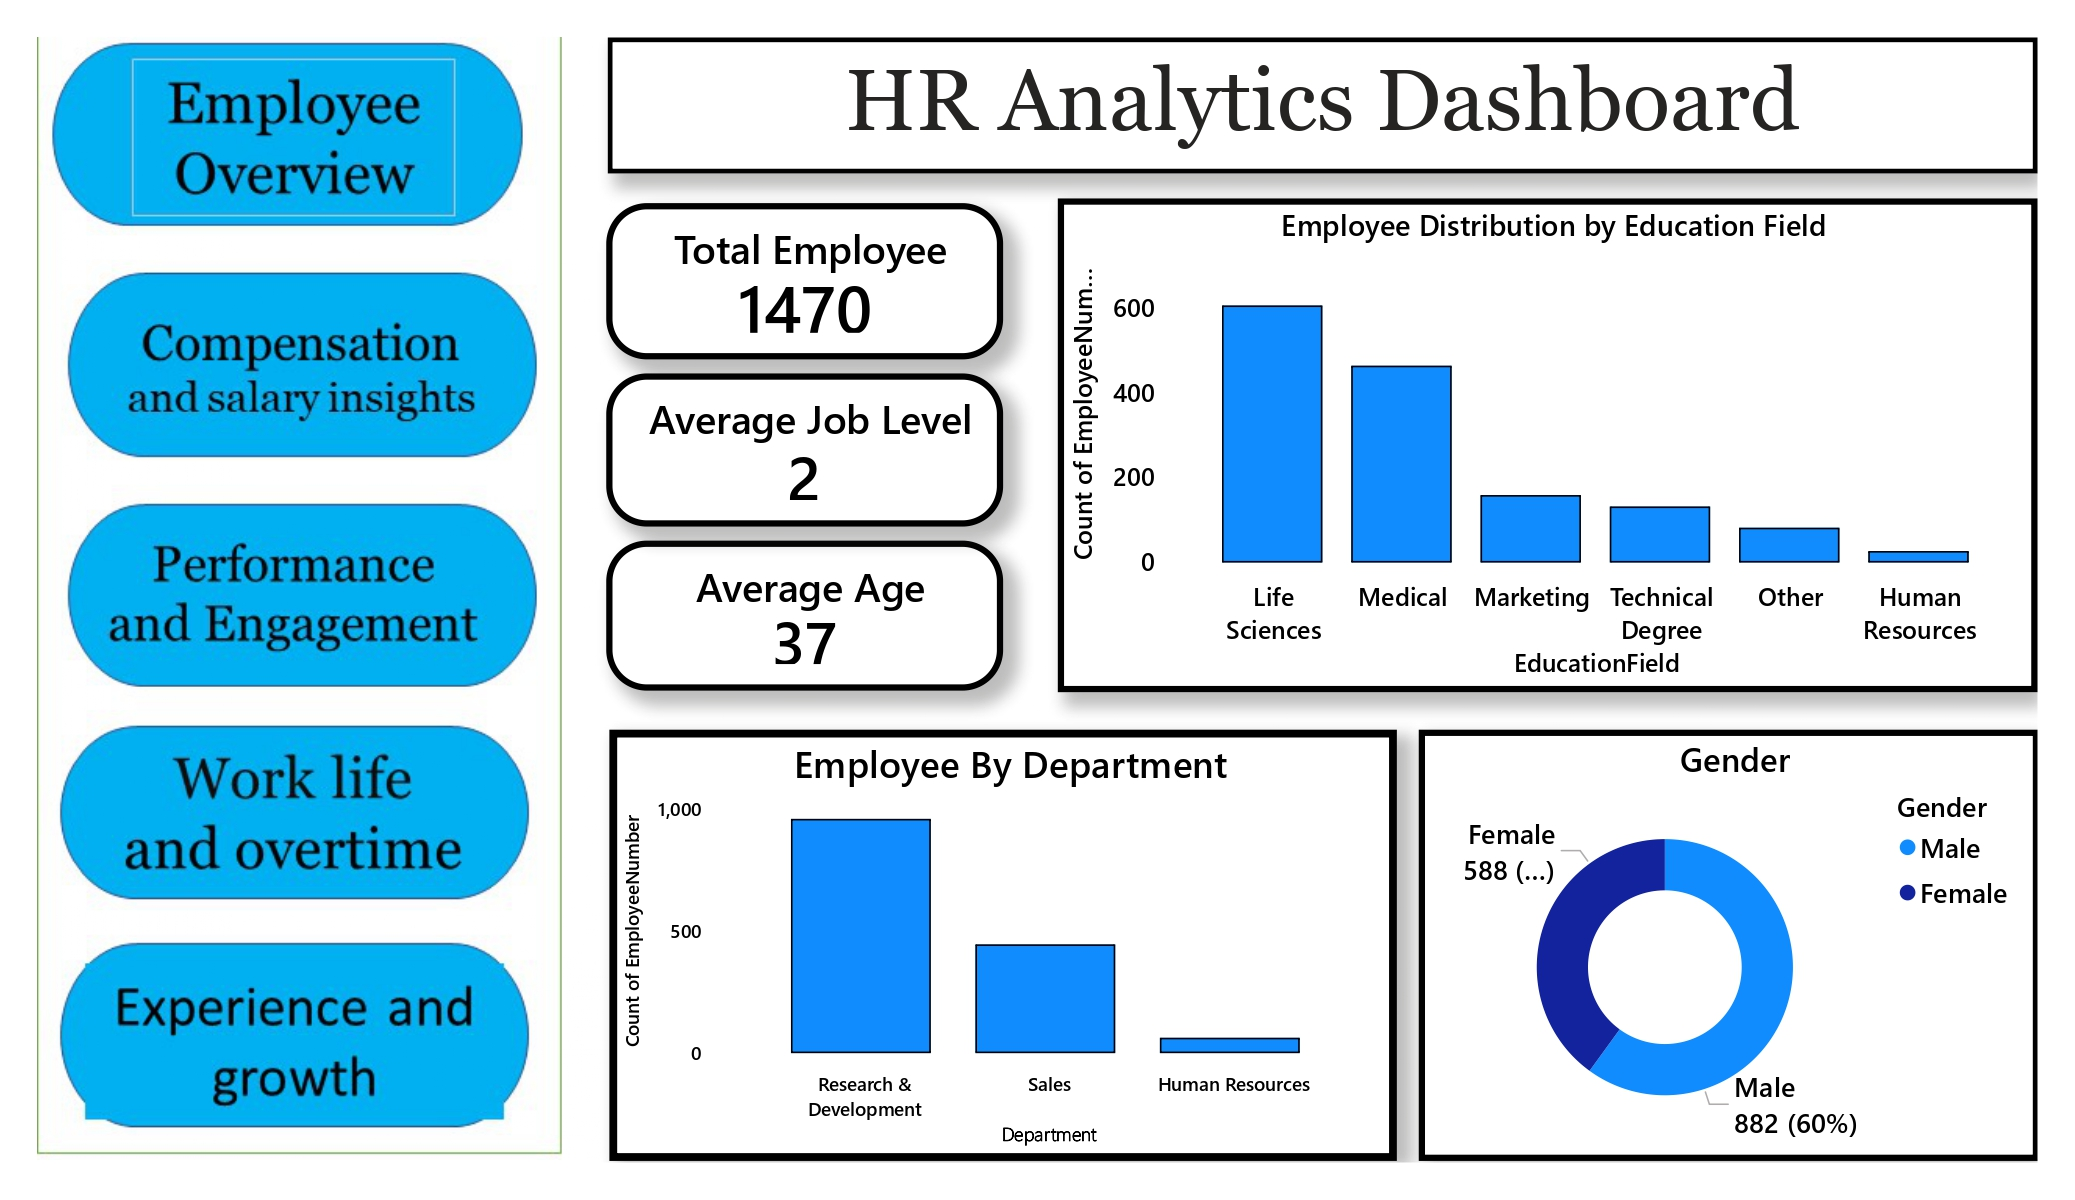

This screenshot's page, from the dashboard's own definition file:
{"tool":"powerbi","page":{"name":"overview","canvas":[1280,720],"ordinal":0},"visuals":[{"type":"actionButton","box":[38.3,28.3,221.1,116.2],"z":0},{"type":"actionButton","box":[28.3,170.1,242.4,116.2],"z":1000},{"type":"actionButton","box":[28.3,313.2,242.4,116.2],"z":2000},{"type":"actionButton","box":[28.3,453.5,242.4,116.2],"z":3000},{"type":"actionButton","box":[46.8,582.5,242.4,116.2],"z":4000},{"type":"actionButton","box":[55.3,8.5,215.4,107.7],"z":5000},{"type":"actionButton","box":[55.3,157.3,233.9,107.7],"z":6000},{"type":"actionButton","box":[55.3,157.3,223.9,107.7],"z":7000},{"type":"actionButton","box":[45.4,306.1,233.9,107.7],"z":8000},{"type":"actionButton","box":[45.4,443.6,233.9,107.7],"z":9000},{"type":"actionButton","box":[49.6,554.2,233.9,107.7],"z":10000},{"type":"donutChart","title":"Gender","fields":{"Category":["ibm data.Gender"],"Y":["CountNonNull(ibm data.Gender)"]},"box":[883.6,443.3,397,276.1],"z":11000},{"type":"clusteredColumnChart","title":"Employee  By Department","fields":{"Category":["ibm data.Department"],"Y":["CountNonNull(ibm data.EmployeeNumber)"]},"box":[365.7,443.3,504.5,276.1],"z":12000},{"type":"card","title":"Total Employee","fields":{"Values":["CountNonNull(ibm data.EmployeeNumber)"]},"box":[364.2,106,253.7,100],"z":13000},{"type":"card","title":"Average Age","fields":{"Values":["Avg(ibm data.Age)"]},"box":[364.2,322.4,253.7,95.5],"z":14000},{"type":"card","title":"Average Job Level","fields":{"Values":["Avg(ibm data.JobLevel)"]},"box":[364.2,214.9,253.7,98.5],"z":15000},{"type":"clusteredColumnChart","title":"Employee Distribution by Education Field","fields":{"Category":["ibm data.EducationField"],"Y":["CountNonNull(ibm data.EmployeeNumber)"]},"box":[653,102.6,627,315.9],"z":16000},{"type":"textbox","box":[365.3,0,914.7,86.8],"z":19000}]}

Visuals, with their boxes on the page's 1280x720 design canvas (x1, y1, x2, y2). These are canvas units, not pixel positions in the 2075x1200 screenshot, which may show the page scaled, cropped or inside an application window:
actionButton: detection(38, 28, 259, 144)
actionButton: detection(28, 170, 271, 286)
actionButton: detection(28, 313, 271, 429)
actionButton: detection(28, 454, 271, 570)
actionButton: detection(47, 582, 289, 699)
actionButton: detection(55, 8, 271, 116)
actionButton: detection(55, 157, 289, 265)
actionButton: detection(55, 157, 279, 265)
actionButton: detection(45, 306, 279, 414)
actionButton: detection(45, 444, 279, 551)
actionButton: detection(50, 554, 284, 662)
"Gender" donutChart: detection(884, 443, 1281, 719)
"Employee  By Department" clusteredColumnChart: detection(366, 443, 870, 719)
"Total Employee" card: detection(364, 106, 618, 206)
"Average Age" card: detection(364, 322, 618, 418)
"Average Job Level" card: detection(364, 215, 618, 313)
"Employee Distribution by Education Field" clusteredColumnChart: detection(653, 103, 1280, 418)
textbox: detection(365, 0, 1280, 87)
